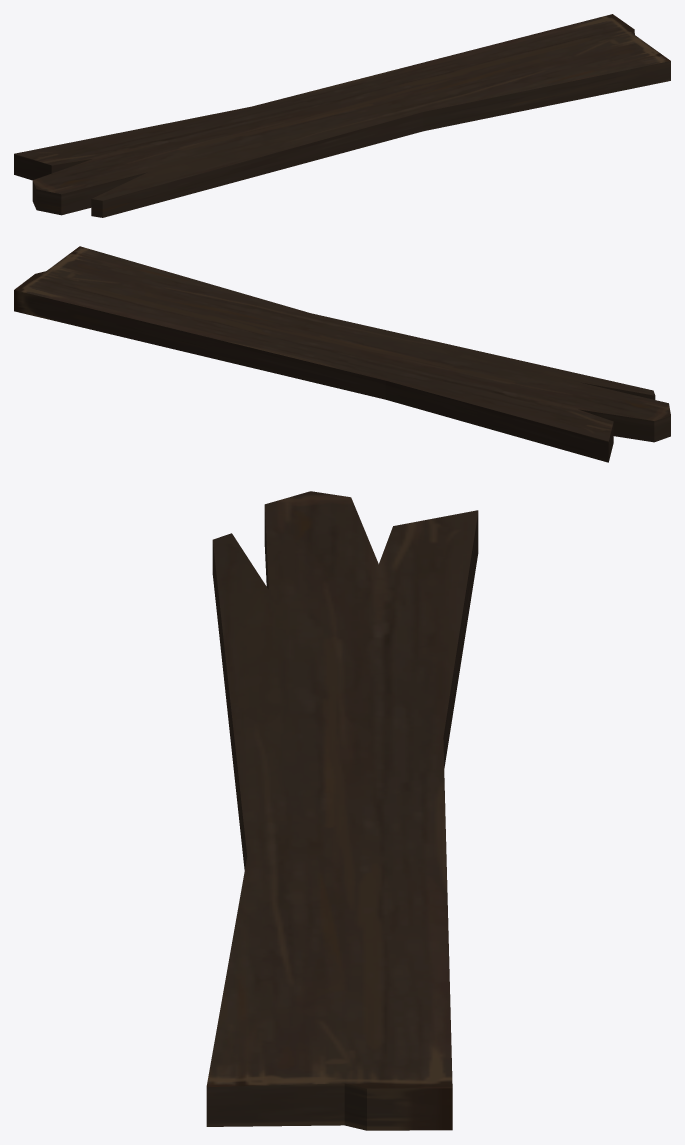
Rendered from sewer_wood002.FBX.
The picture shows the model from 3 angles, top to bottom: view 1: azimuth 30°, elevation 25°; view 2: azimuth 150°, elevation 25°; view 3: azimuth 270°, elevation 25°; orthographic projection. The views are drawn at different scales.
Parts seen in each view (by area): view 1: sewer_wood002; view 2: sewer_wood002; view 3: sewer_wood002.
Boxes of the visible parts, bbox=[...] form: sewer_wood002: bbox=[14, 14, 670, 217]; sewer_wood002: bbox=[14, 246, 670, 462]; sewer_wood002: bbox=[206, 491, 478, 1130].
Bounding box in the file's own units: 433 × 14.21 × 83.33.
